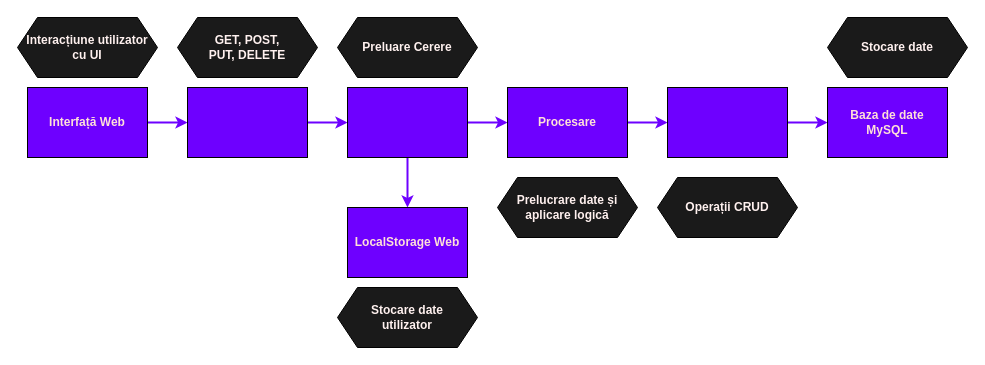
This 985x365 diagram has some shape labels left out. Here are the shapes that lost their labels. From the top down, the box of each, then its label:
(186, 86, 308, 158): Cereri HTTP
(346, 86, 468, 158): Server Java
(666, 86, 788, 158): PostgreSQL
